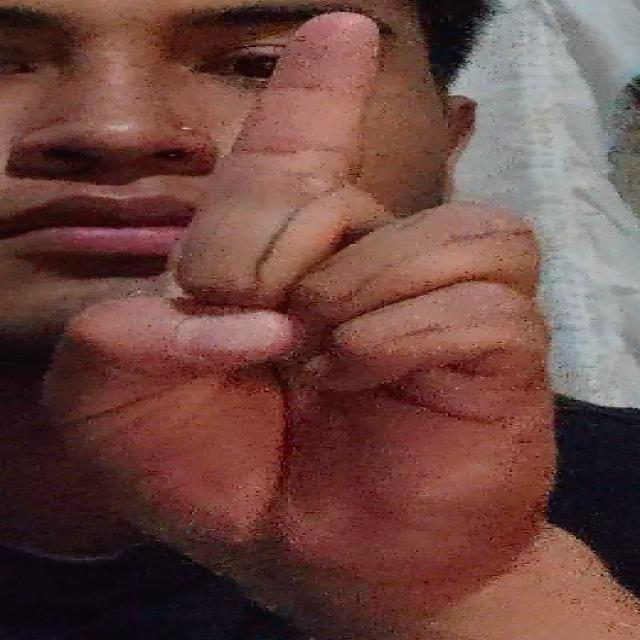Z: (12, 5, 566, 638)
